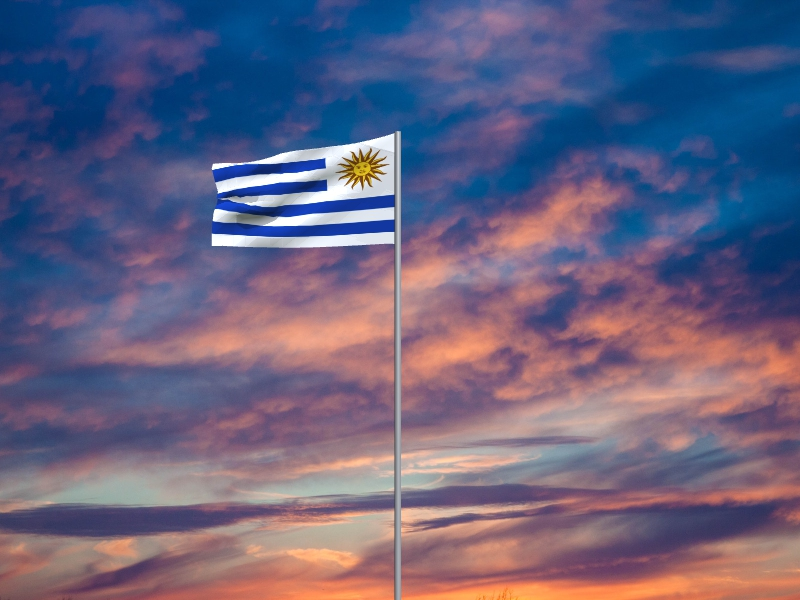uy: (211, 135, 395, 249)
